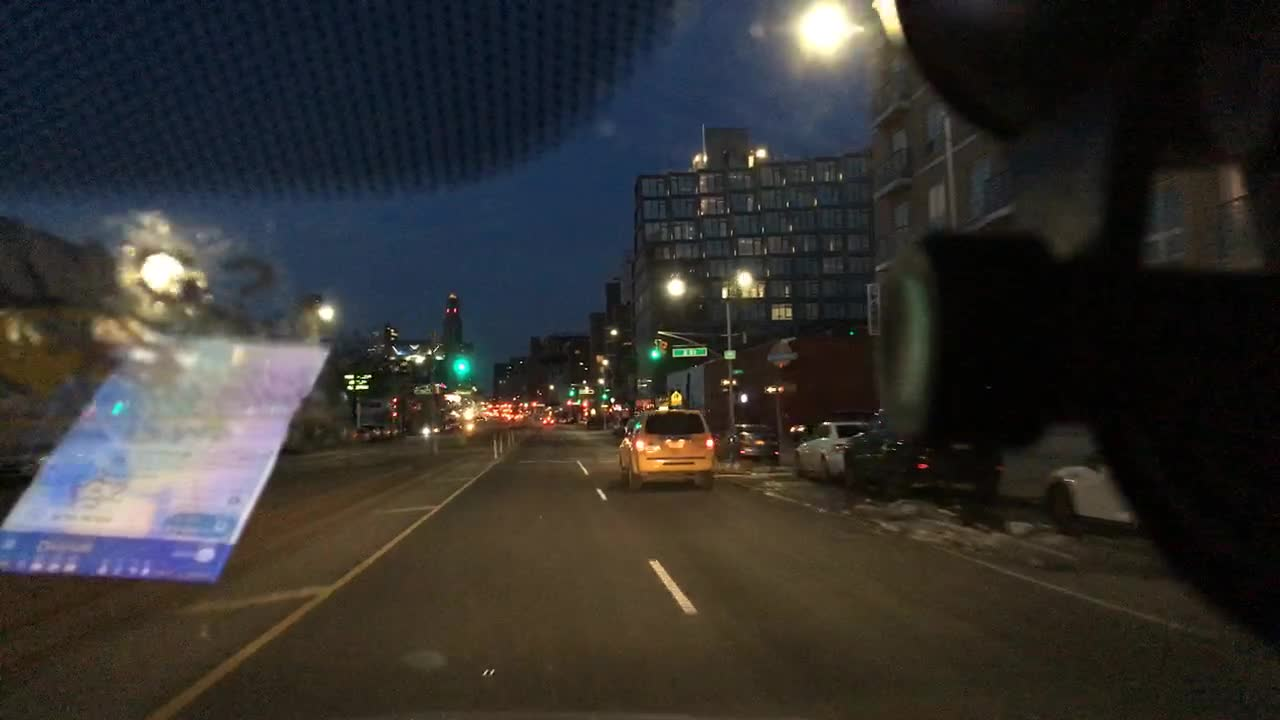car: (838, 403, 1002, 504), (614, 393, 715, 492), (0, 420, 130, 484), (1043, 453, 1137, 534), (793, 420, 874, 482), (719, 426, 779, 469), (584, 406, 600, 430), (617, 393, 633, 415), (555, 411, 575, 425), (538, 408, 552, 426), (455, 408, 474, 421), (484, 404, 494, 421), (474, 406, 486, 420), (516, 408, 530, 418), (503, 406, 509, 425)
traffic light: (658, 340, 668, 361), (649, 337, 658, 359), (455, 349, 462, 376), (737, 388, 747, 403), (565, 384, 573, 399), (602, 389, 607, 403)
traffic sign: (764, 381, 795, 395), (668, 388, 685, 411), (673, 347, 705, 357), (719, 374, 739, 388), (722, 347, 735, 359), (729, 367, 742, 376)
